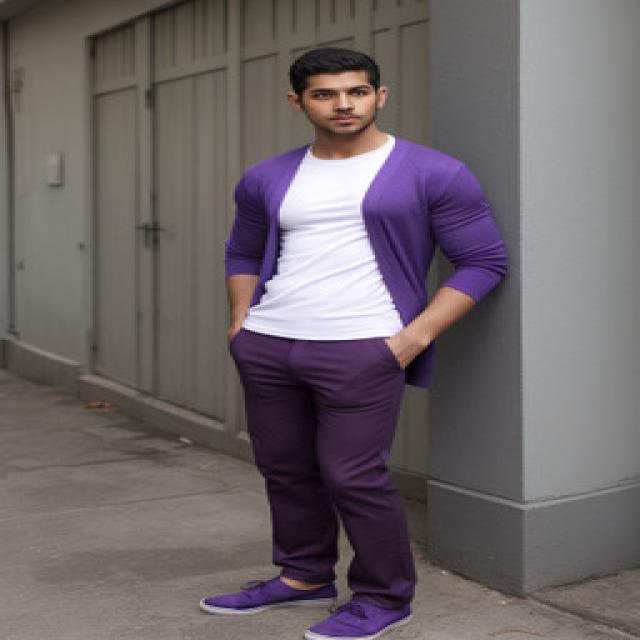Ai human 2: (197, 35, 525, 640)
